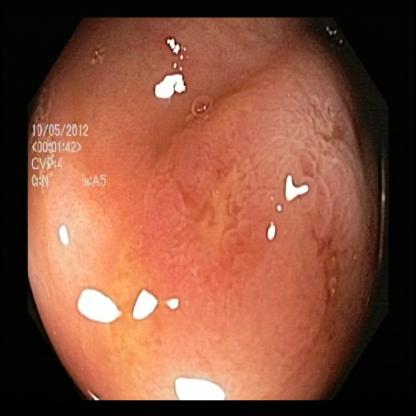Labels: (30, 115, 115, 208)
Polyps: (228, 213, 334, 368)
